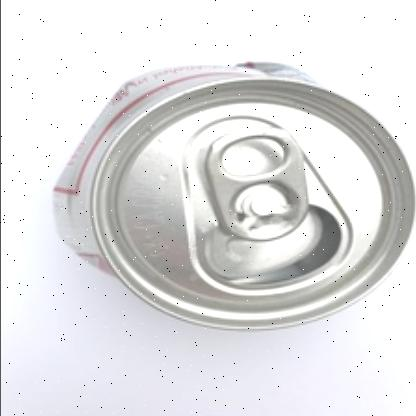Can: (54, 61, 416, 332)
